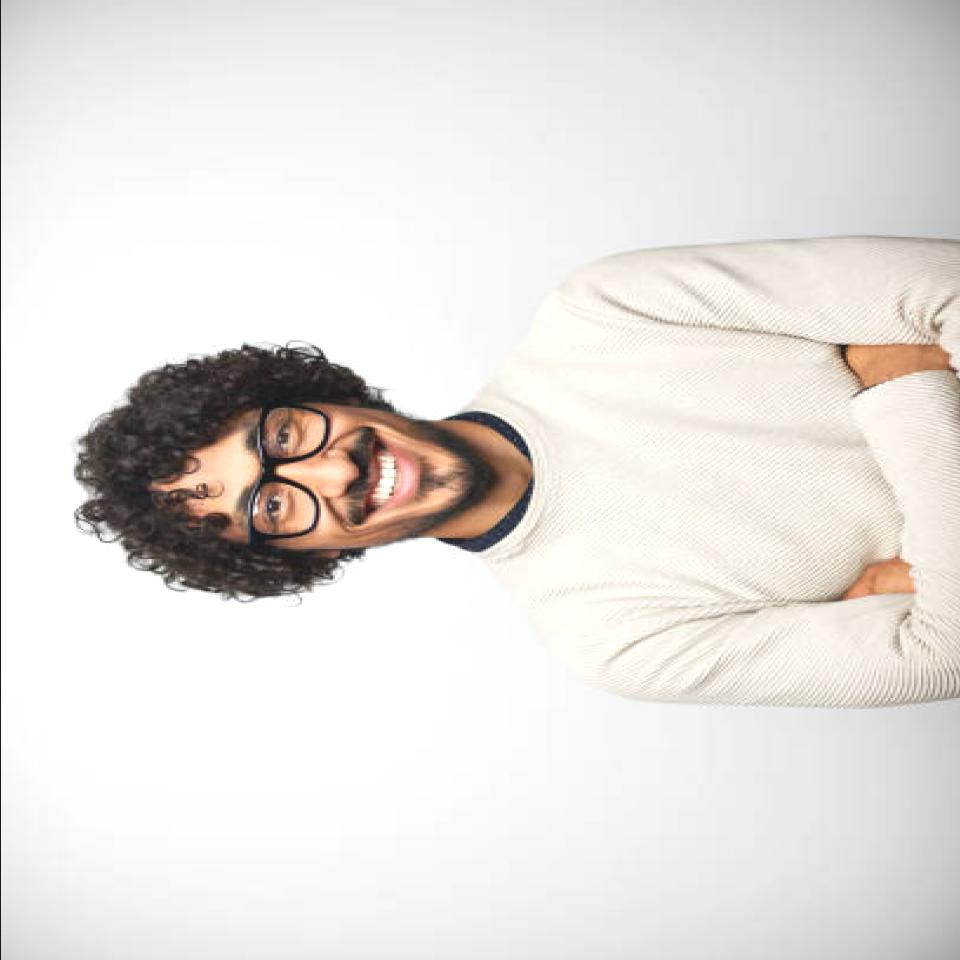Happiness: (172, 406, 480, 550)
